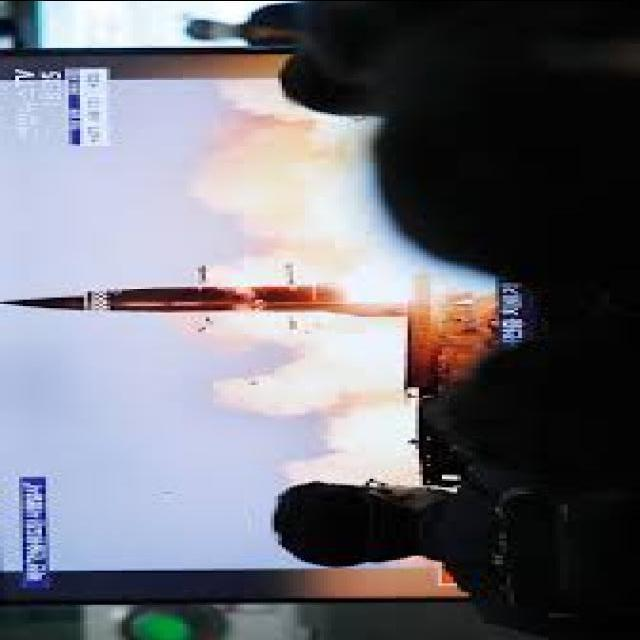missile: (2, 268, 428, 322)
